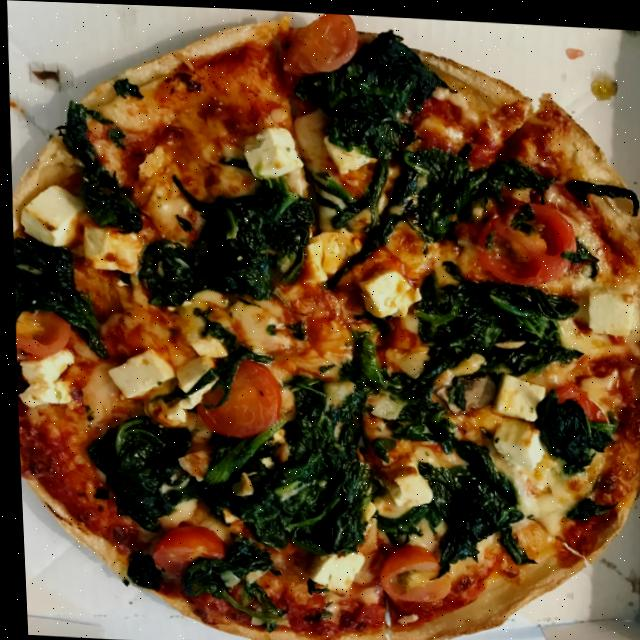pizza: (0, 0, 640, 640)
tomatoes: (469, 195, 575, 283), (190, 355, 278, 437), (279, 8, 357, 76), (144, 521, 220, 576), (550, 378, 604, 418), (197, 383, 218, 403)
